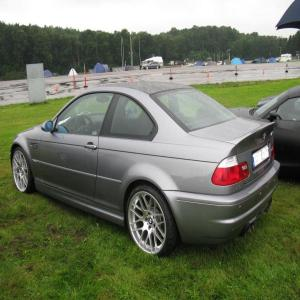Vehicle-registration-plate: (253, 144, 273, 169)
